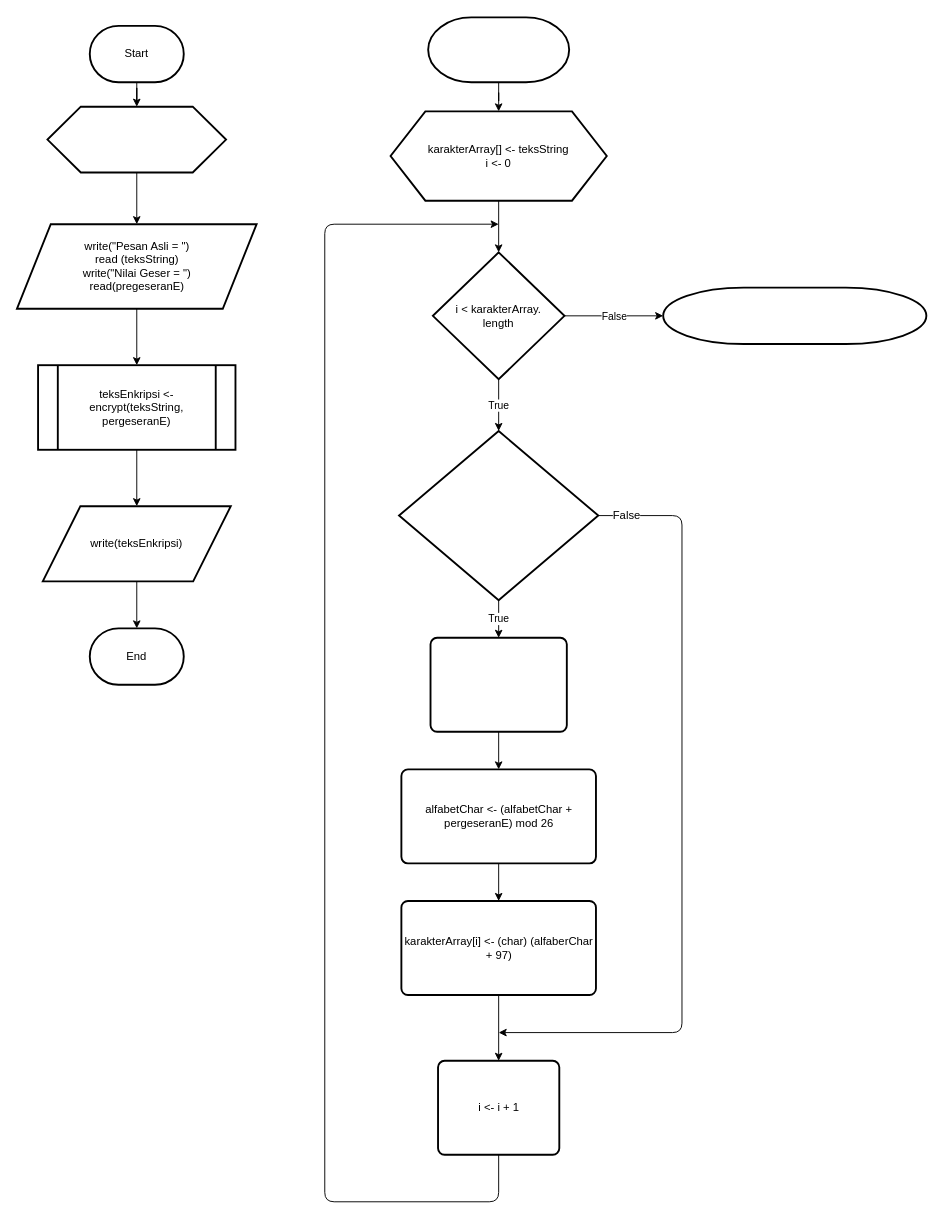
The diagram is 944 pixels wide and 1226 high, and some of its shapes have lost their labels. The box of each missing label's shape, as (x1, y1, x2, y2) in pixels:
(int) karakterArray[i] >= 97 AND (int) karakterArray[i] <= 122: (398, 430, 599, 601)
alfabetChar <- (int) karakterArray[i] - 97: (429, 636, 567, 732)
encrypt(teksString, pergeseranE): (427, 16, 570, 83)
return String.valueOf(karakterArray): (662, 286, 927, 345)
teksString <- "" teksEnkripsi <- "" pergeseran <- 0: (46, 105, 227, 173)
